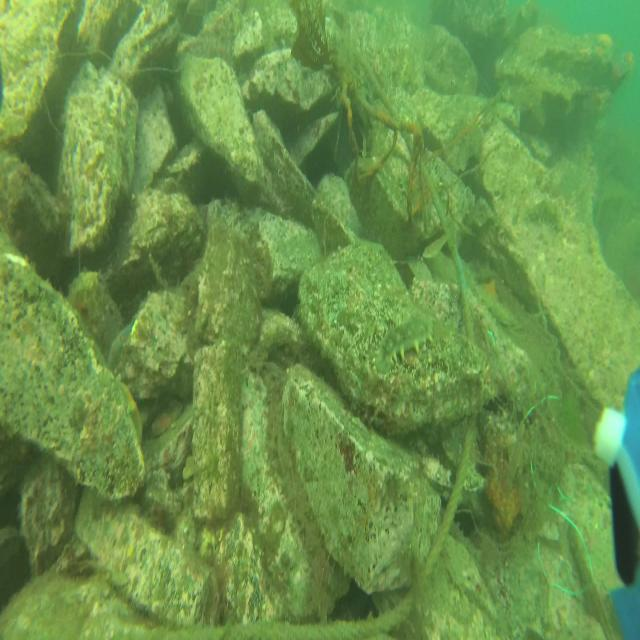holothurian: (374, 318, 436, 369)
